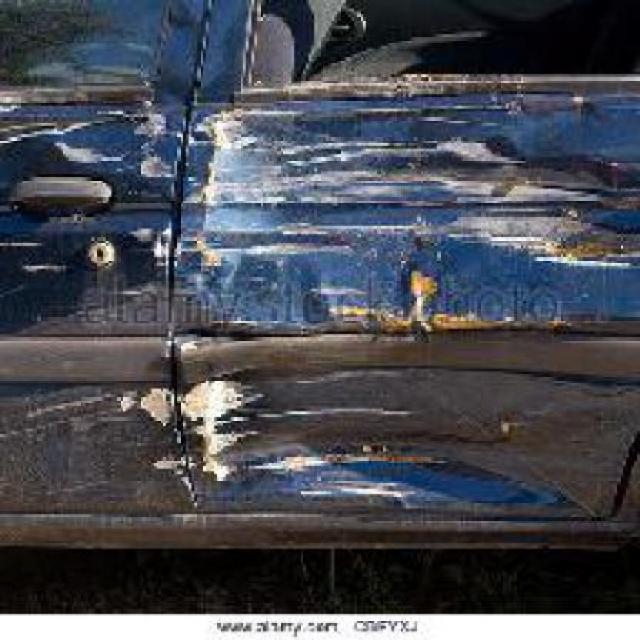damaged-door: (192, 0, 638, 529)
